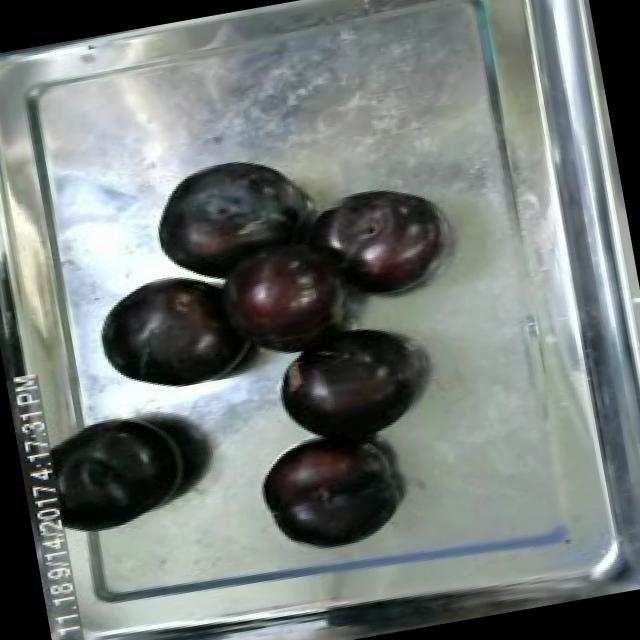Fruit: (139, 138, 323, 294), (83, 260, 255, 405), (36, 399, 204, 545), (252, 421, 412, 562), (266, 319, 426, 460), (202, 222, 356, 366), (311, 176, 455, 308)
